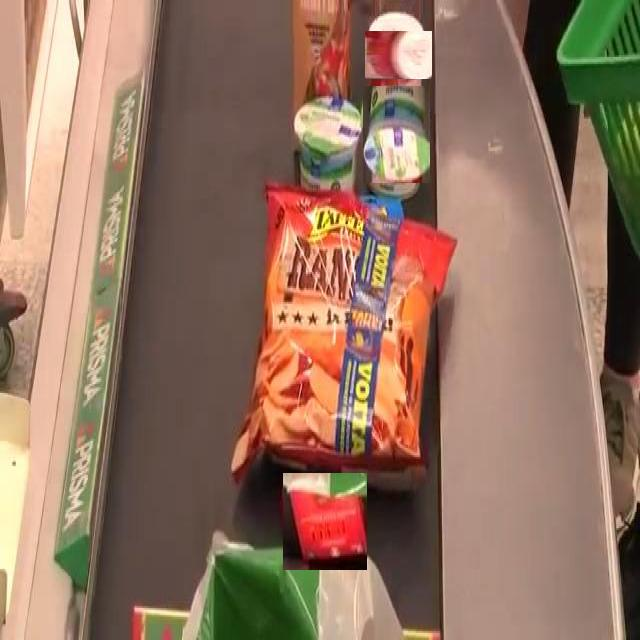food-box: (238, 200, 443, 492), (292, 0, 352, 137), (362, 85, 430, 183), (300, 93, 360, 199), (369, 26, 427, 84)
utility-box: (282, 472, 367, 570)
